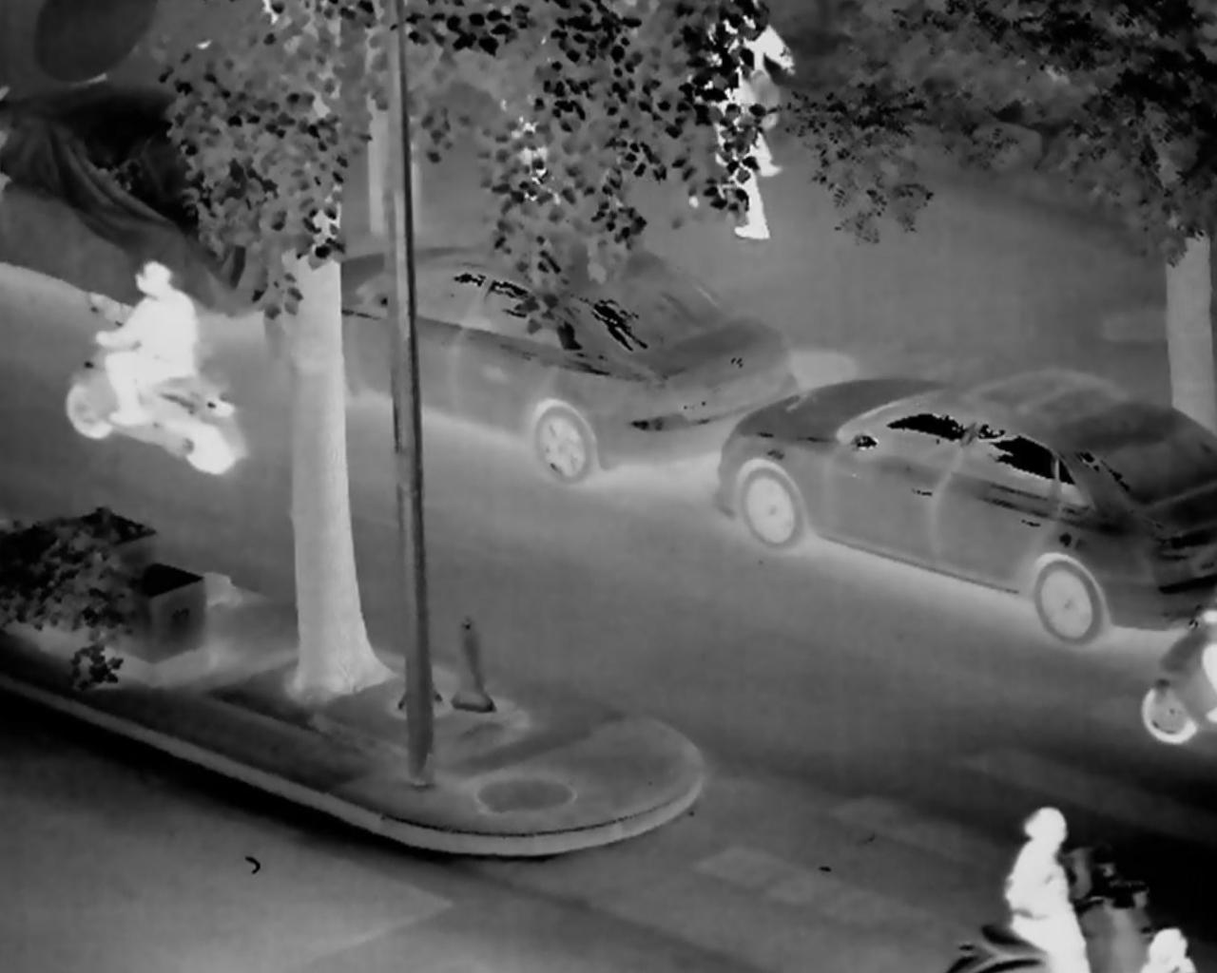person: (686, 12, 780, 237), (77, 261, 203, 423), (1002, 799, 1091, 973), (1136, 922, 1192, 973)
